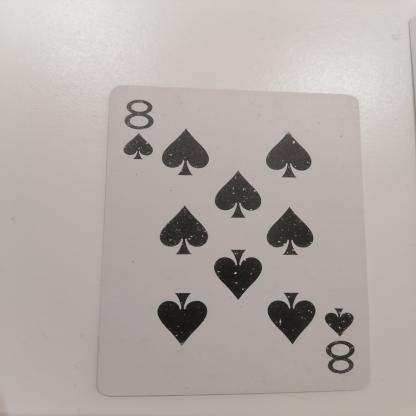8S: (111, 99, 167, 171), (318, 304, 360, 378)
